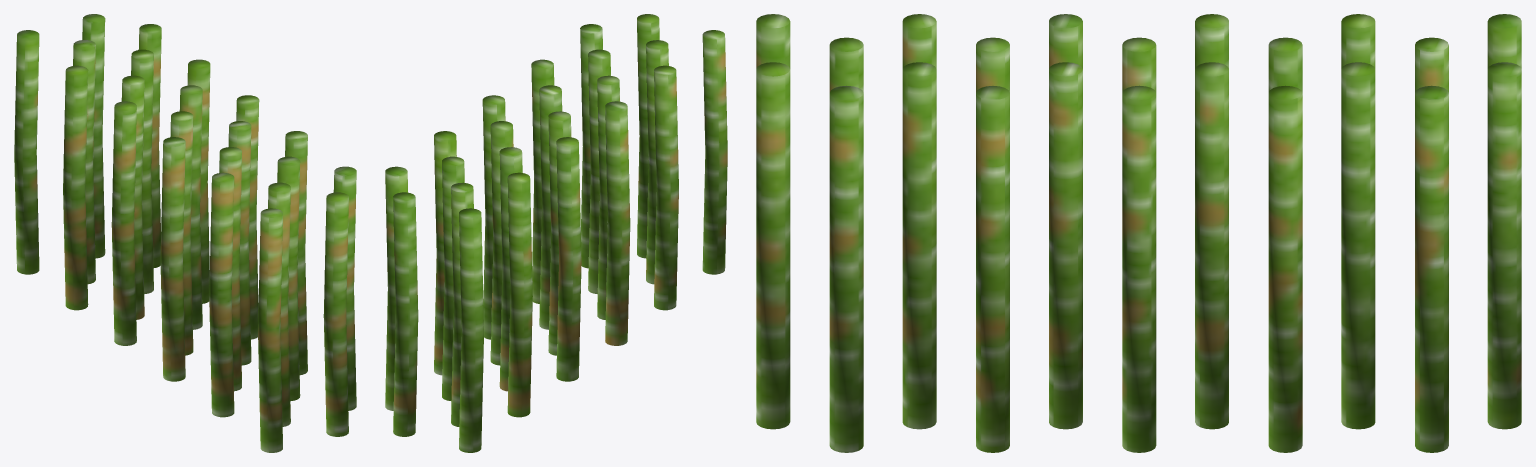
File: Jaringan.fbx
3 views of the same model, side by side, from view 1: azimuth 30°, elevation 25°; view 2: azimuth 150°, elevation 25°; view 3: azimuth 270°, elevation 25° (orthographic). The views are drawn at different scales.
Parts seen in each view (by area): view 1: Sphere.003; view 2: Sphere.003; view 3: Sphere.003.
Part boxes in pixels (<box>): Sphere.003: <box>14,14,356,452</box>; Sphere.003: <box>385,14,727,452</box>; Sphere.003: <box>756,14,1521,452</box>.
Size of the model in its own units: 50.01 by 93.34 by 184.
1 material, 1 textured.
